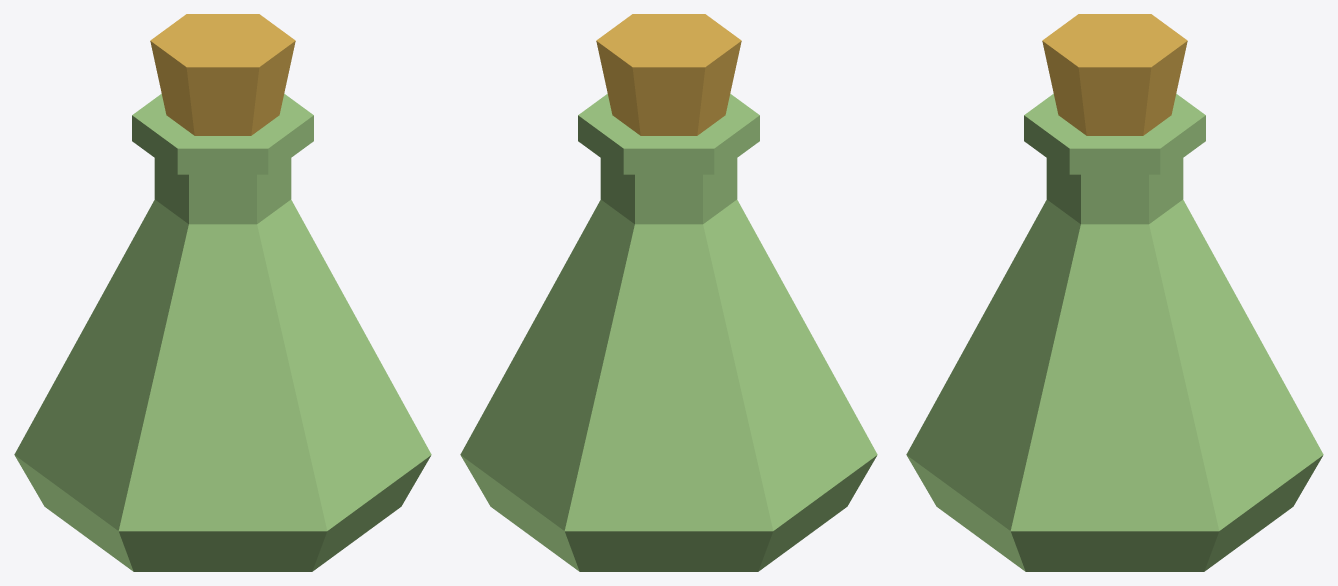
Rendered from Vial 02.fbx.
The picture shows the model from 3 angles, left to right: view 1: azimuth 30°, elevation 25°; view 2: azimuth 150°, elevation 25°; view 3: azimuth 270°, elevation 25°; orthographic projection.
Visible parts, largest first — view 1: Vial.02; view 2: Vial.02; view 3: Vial.02.
Part boxes in pixels (x1=…): Vial.02: x1=14, y1=14, x2=431, y2=571; Vial.02: x1=460, y1=14, x2=877, y2=571; Vial.02: x1=906, y1=14, x2=1323, y2=571.
Size of the model in its own units: 9.62 by 13.69 by 11.11.
